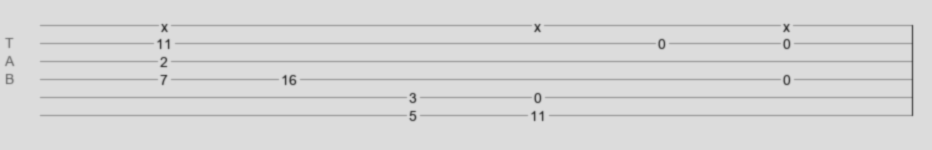0: (534, 90, 542, 100), (658, 36, 666, 46), (783, 36, 791, 46), (783, 72, 791, 82)
11: (156, 36, 172, 46), (530, 108, 546, 118)
16: (281, 72, 297, 82)
2: (160, 54, 168, 64)
3: (409, 90, 417, 100)
5: (409, 108, 417, 118)
7: (160, 72, 168, 82)
x: (161, 19, 168, 27), (534, 19, 541, 27), (783, 19, 790, 27)
